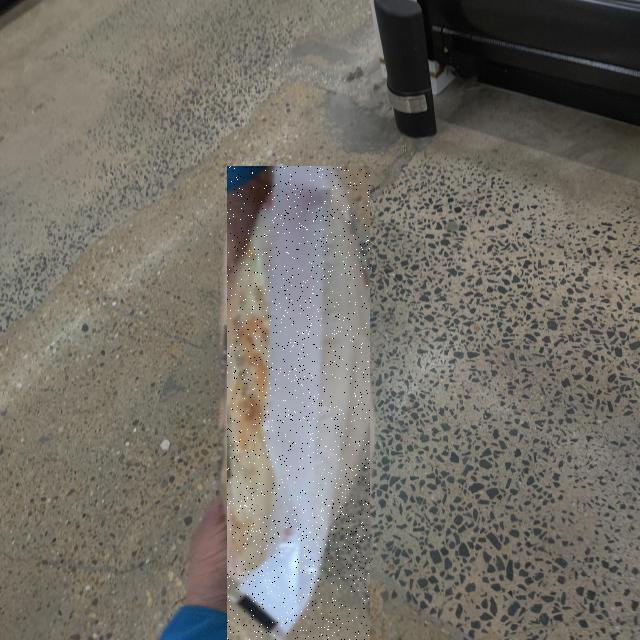cheese: (114, 0, 340, 486)
